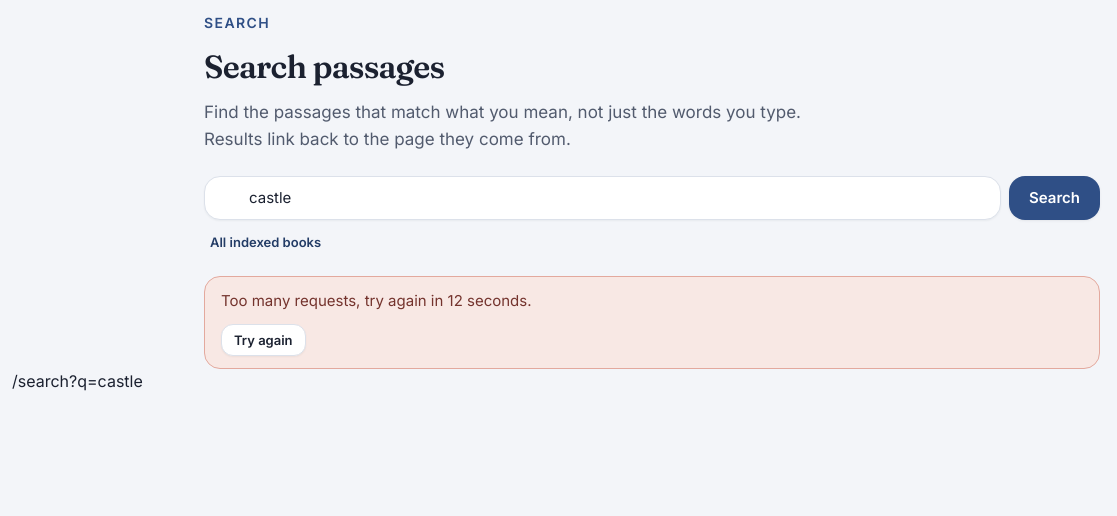
Scenario: SearchView › shows the backend message when the search fails, e.g. rate limited, and retries
Expected: the message shows "Too many requests, try again in 12 seconds.", [221,291,532,310]
Click the button "Try again". click: click(263, 340)
box: [221,324,306,356]
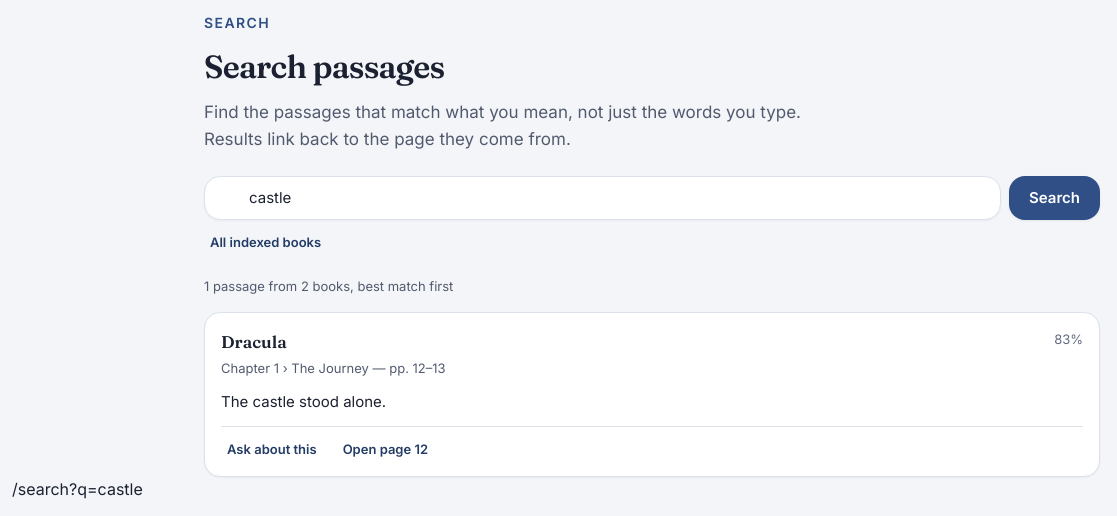
Result: the link "Dracula" is shown at [221,331,287,352]
